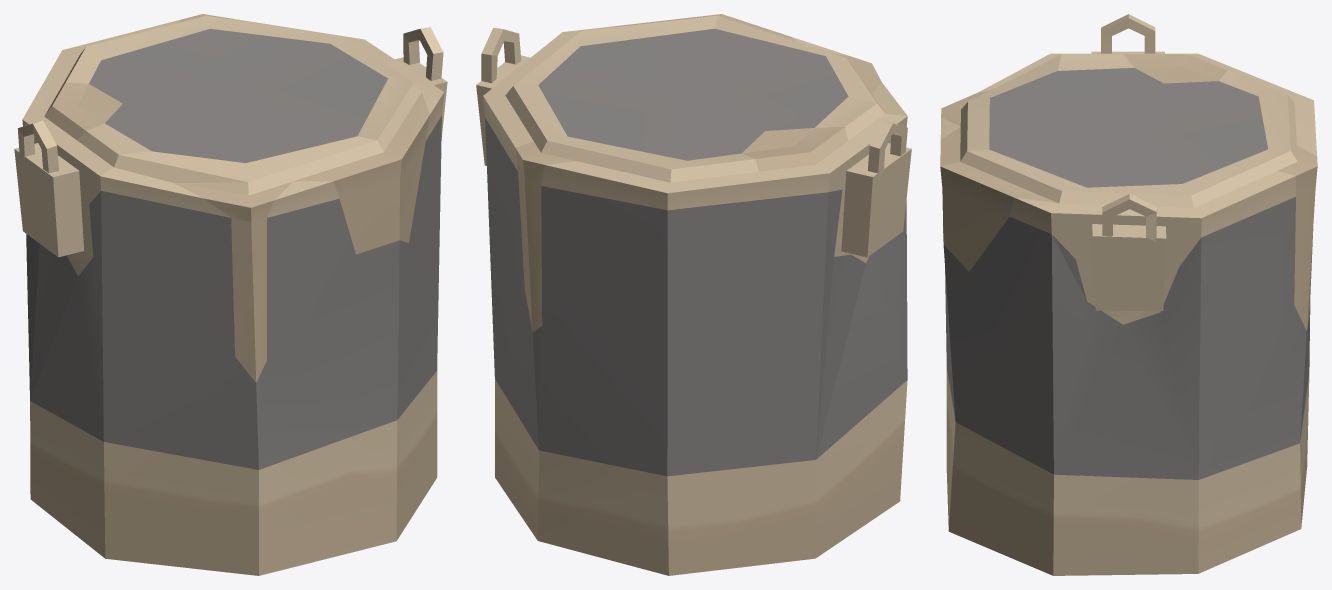
Rendered from SM_Prop_Paint_Can_Closed_White_01.obj.
3 views of the same model, side by side, from view 1: azimuth 30°, elevation 25°; view 2: azimuth 150°, elevation 25°; view 3: azimuth 270°, elevation 25° (orthographic). The views are drawn at different scales.
Parts seen in each view (by area): view 1: SM_Prop_Paint_Can_Closed_White_01_0; view 2: SM_Prop_Paint_Can_Closed_White_01_0; view 3: SM_Prop_Paint_Can_Closed_White_01_0.
Boxes of the visible parts, box(x1,y1,x2,y2) form: SM_Prop_Paint_Can_Closed_White_01_0: box(14, 14, 447, 575); SM_Prop_Paint_Can_Closed_White_01_0: box(476, 14, 911, 575); SM_Prop_Paint_Can_Closed_White_01_0: box(940, 14, 1317, 575).
Size of the model in its own units: 0.3622 by 0.3596 by 0.3123.
Materials: 1 (1 with a texture image).
